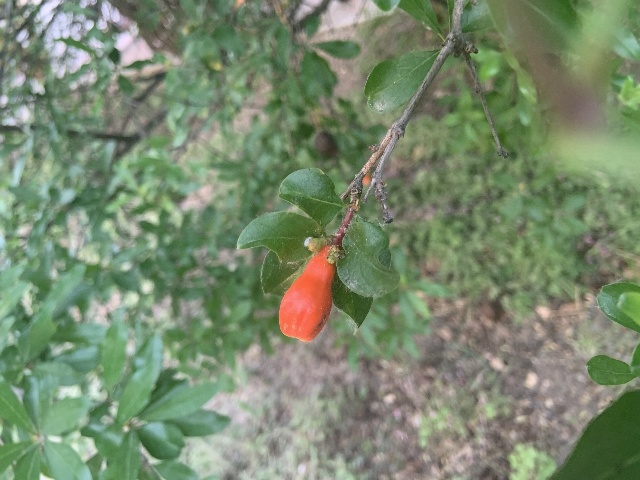bud: (278, 246, 335, 342)
